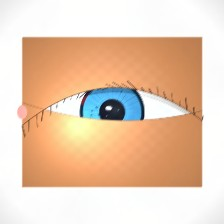hemorrhage_spot: (75, 83, 141, 137)
